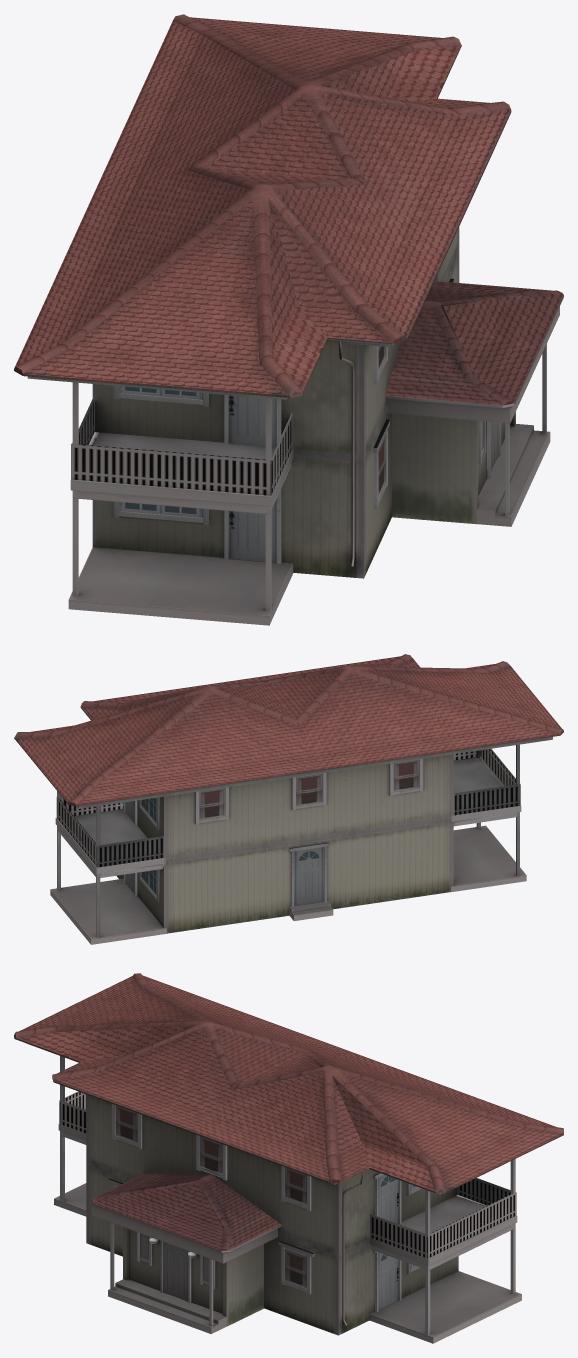
3 views of the same model, one above another, from view 1: azimuth 30°, elevation 25°; view 2: azimuth 150°, elevation 25°; view 3: azimuth 270°, elevation 25° (orthographic). The views are drawn at different scales.
Parts seen in each view (by area): view 1: City_building_053; view 2: City_building_053; view 3: City_building_053.
Part boxes in pixels (x1=…): City_building_053: x1=14, y1=14, x2=563, y2=625; City_building_053: x1=14, y1=654, x2=563, y2=944; City_building_053: x1=14, y1=973, x2=563, y2=1343.
Bounding box in the file's own units: 1788 × 1918 × 836.
1 material, 1 textured.
